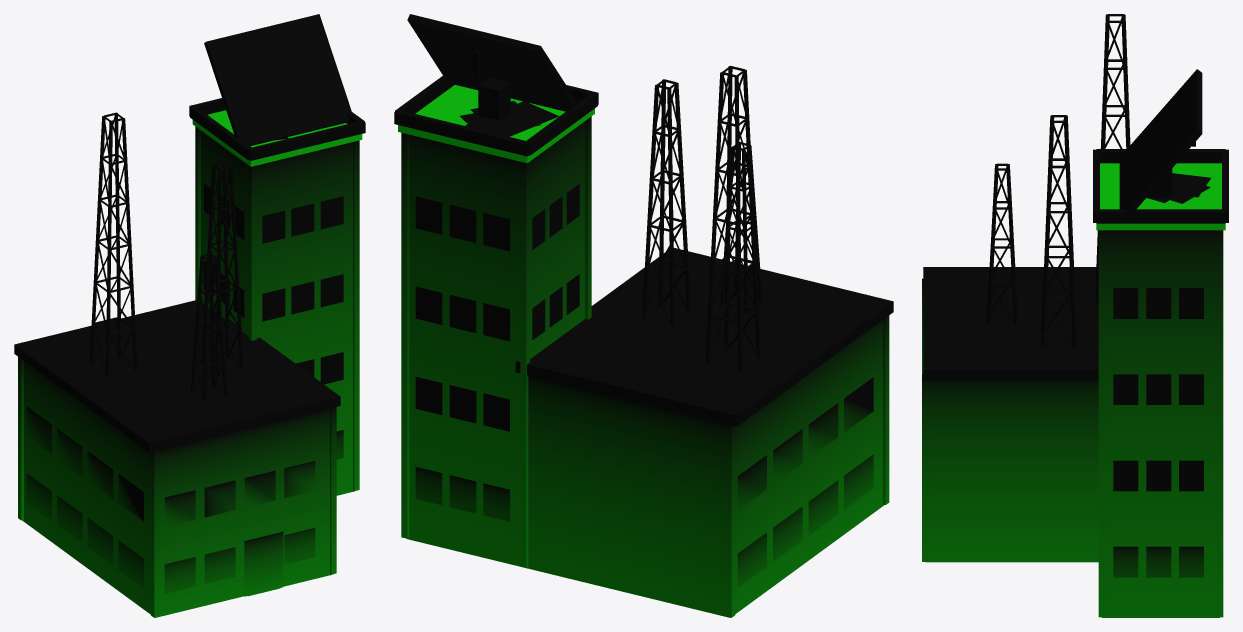
The model's file is s_sensorcontrol.glb.
The picture shows the model from 3 angles, left to right: view 1: azimuth 30°, elevation 25°; view 2: azimuth 150°, elevation 25°; view 3: azimuth 270°, elevation 25°; orthographic projection. The views are drawn at different scales.
Parts seen in each view (by area): view 1: lod0; view 2: lod0; view 3: lod0.
Boxes of the visible parts, x1,y1,x2,y2 form: lod0: (14, 14, 365, 617); lod0: (394, 14, 893, 617); lod0: (922, 14, 1228, 617).
Size of what is drawn, in the model's own units: 16.6 by 23.95 by 13.55.
